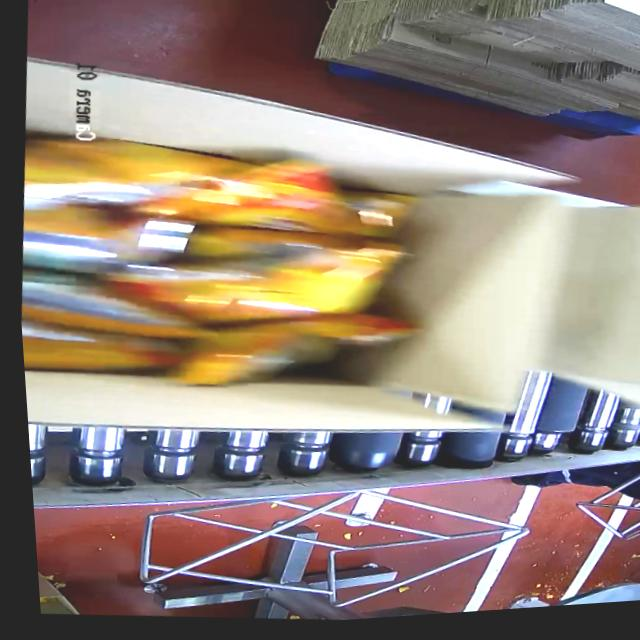FRENCH_CHEESE: (8, 87, 437, 428)
